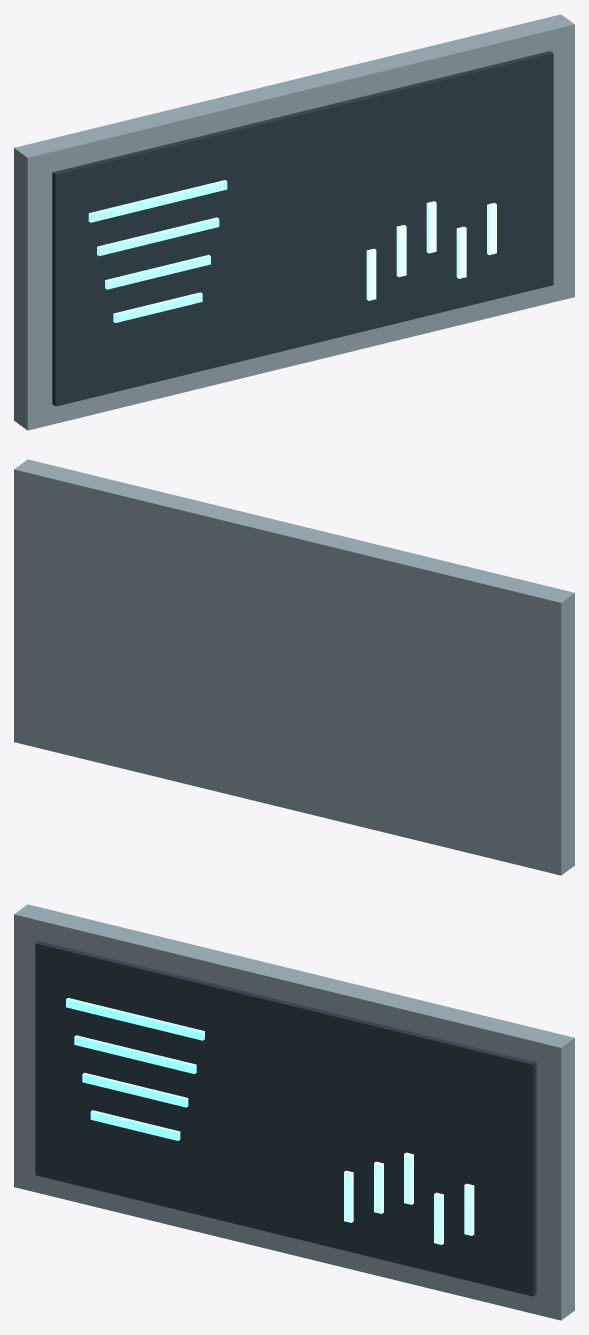
Rendered from wall_monitor.glb.
3 renders of one model, top to bottom at view 1: azimuth 30°, elevation 25°; view 2: azimuth 150°, elevation 25°; view 3: azimuth 330°, elevation 25°, orthographic.
Visible parts, largest first — view 1: black_1, steel_0, blue_2, blue_3, blue_4, blue_5, green_8, green_6, green_7, green_9; view 2: steel_0; view 3: black_1, steel_0, blue_2, blue_3, blue_4, blue_5, green_10.
Boxes of the visible parts, bbox=[...] form: black_1: bbox=[52, 51, 553, 406]; steel_0: bbox=[14, 14, 574, 430]; blue_2: bbox=[88, 180, 227, 222]; blue_3: bbox=[97, 217, 219, 255]; blue_4: bbox=[105, 255, 210, 289]; blue_5: bbox=[113, 292, 202, 322]; green_8: bbox=[426, 201, 436, 253]; green_6: bbox=[366, 248, 376, 300]; green_7: bbox=[396, 225, 406, 277]; green_9: bbox=[456, 226, 466, 278]; steel_0: bbox=[14, 459, 574, 875]; black_1: bbox=[35, 941, 536, 1296]; steel_0: bbox=[14, 904, 574, 1320]; blue_2: bbox=[66, 998, 204, 1040]; blue_3: bbox=[74, 1035, 196, 1073]; blue_4: bbox=[82, 1072, 188, 1107]; blue_5: bbox=[90, 1110, 180, 1140]; green_10: bbox=[464, 1183, 474, 1235].
Bounding box in the file's own units: 1.26 × 0.6 × 0.077.
